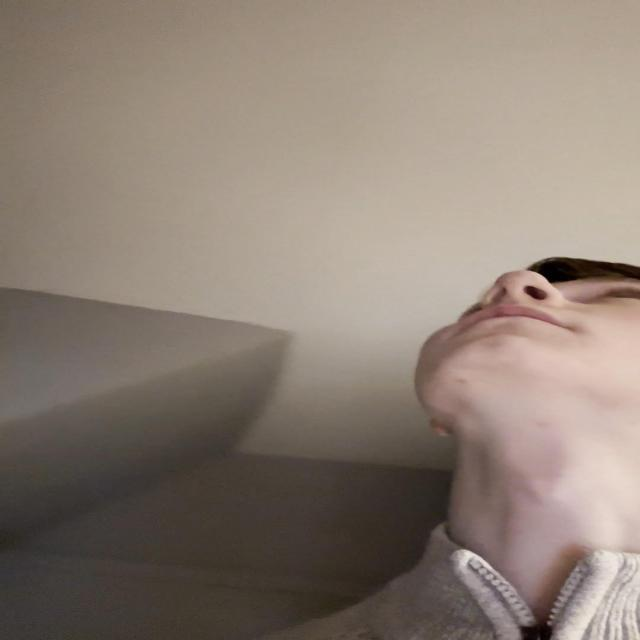no-helmet: (415, 260, 640, 418)
